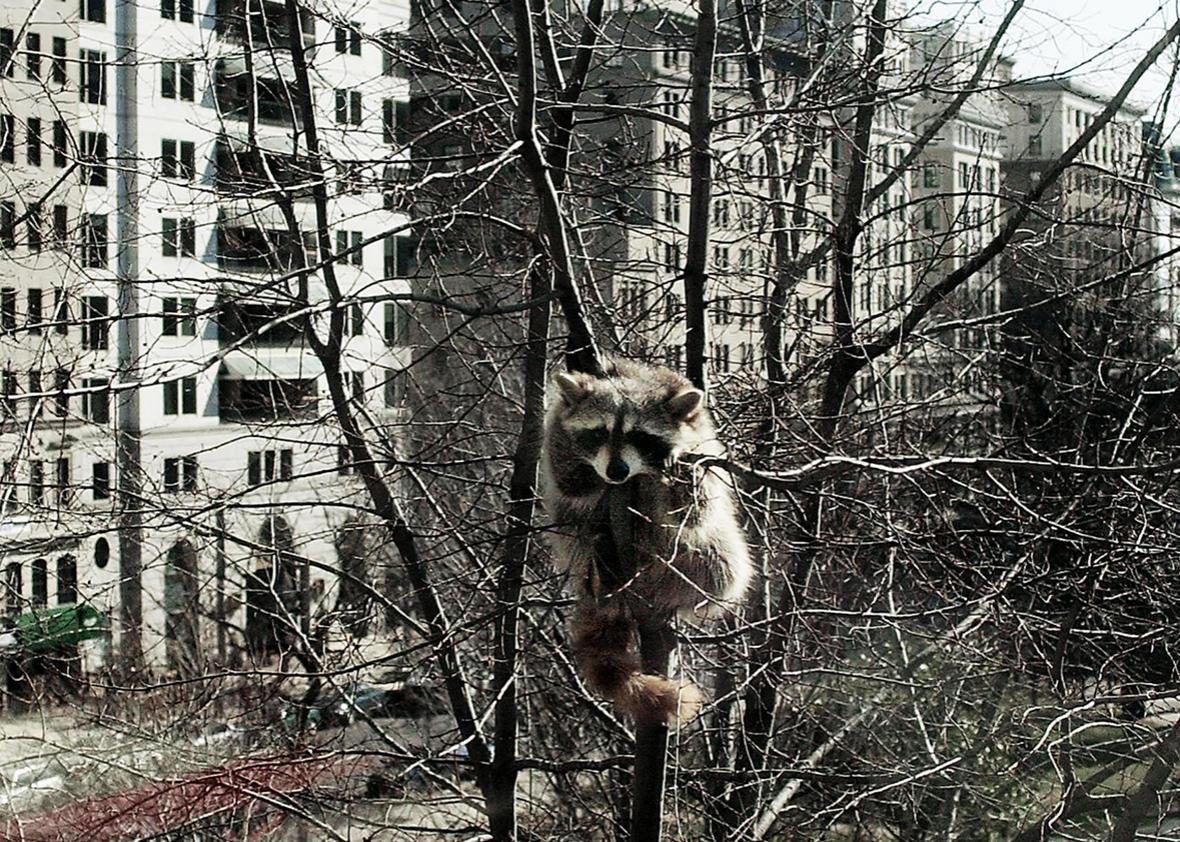raccoon: (531, 351, 746, 722)
